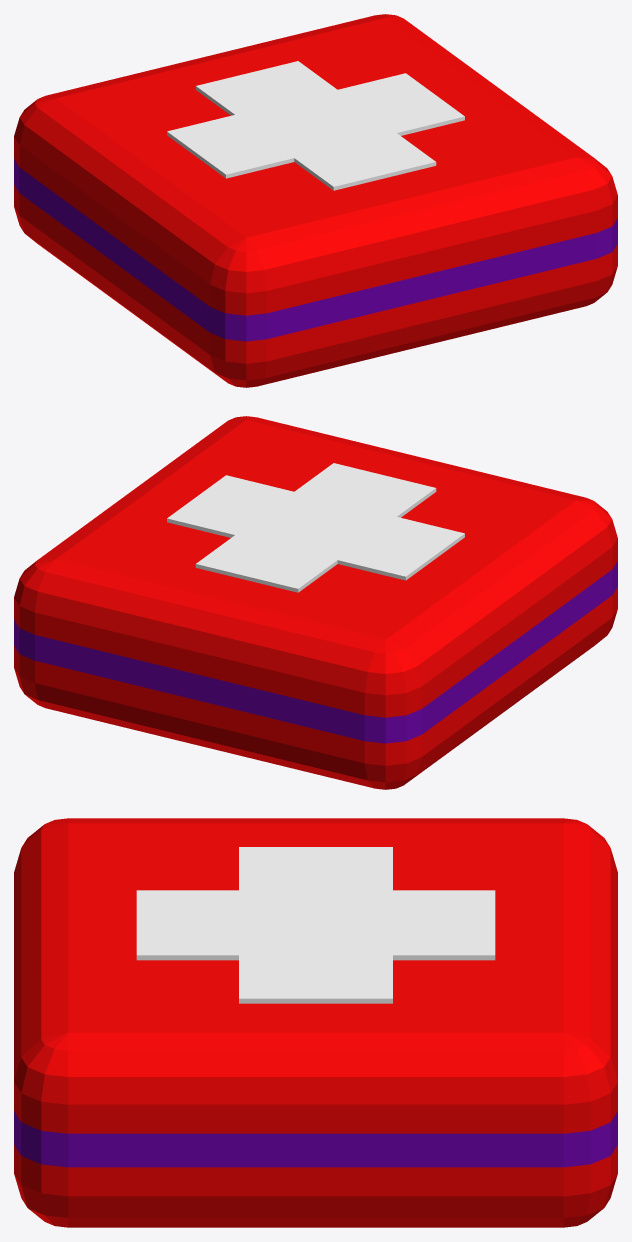
The model's file is health pack.fbx.
The picture shows the model from 3 angles, top to bottom: view 1: azimuth 30°, elevation 25°; view 2: azimuth 150°, elevation 25°; view 3: azimuth 270°, elevation 25°; orthographic projection. The views are drawn at different scales.
Parts seen in each view (by area): view 1: Boole; view 2: Boole; view 3: Boole.
Boxes of the visible parts, x1,y1,x2,y2 form: Boole: (14,14,617,387); Boole: (14,416,617,789); Boole: (14,818,617,1227).
Bounding box in the file's own units: 200 × 71.35 × 200.
